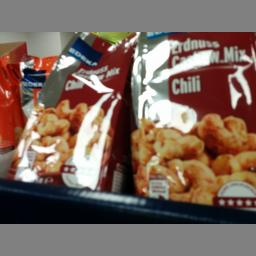nuts: (130, 31, 255, 209), (7, 31, 134, 190)
